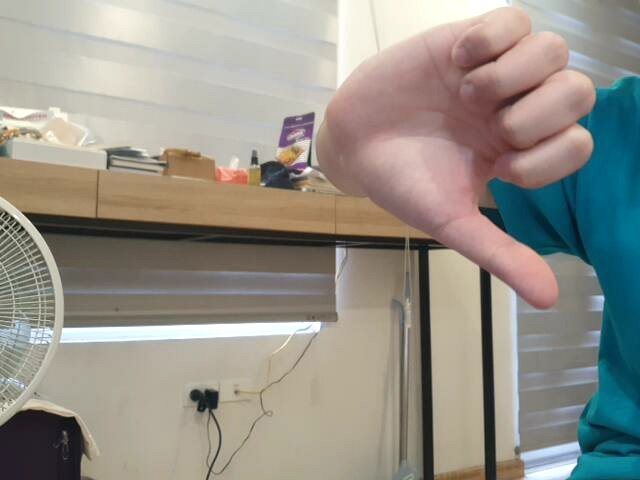ThumbsDown: (318, 6, 600, 322)
